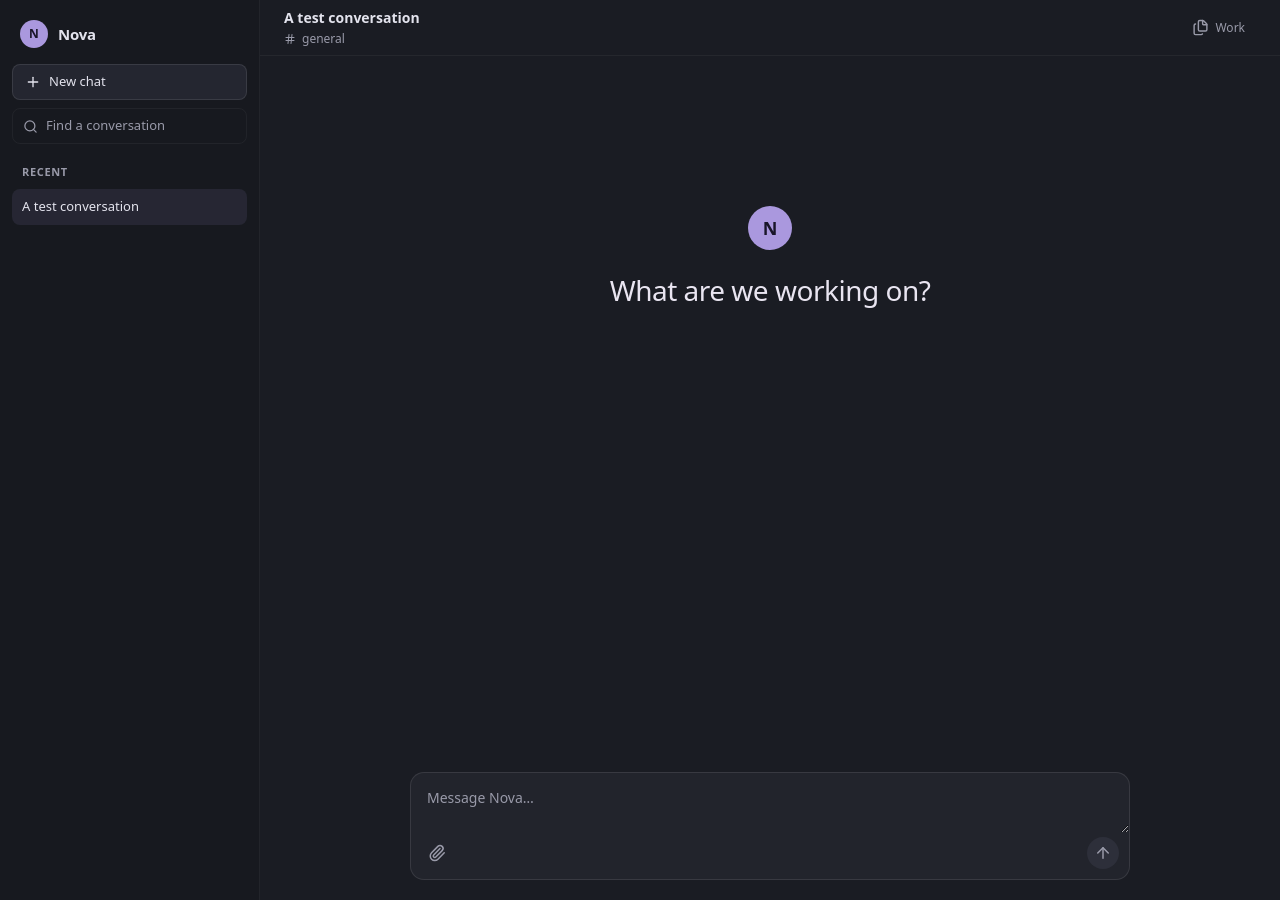
names the configured bot when a coding task asks for input
The width and height of the screenshot is (1280, 900).
Check: the text box labelled "Message Nova" is shown, box [411,773,1129,833]
Step 1. Click the button "Work" → point(1219, 28), box [1182,12,1256,44]
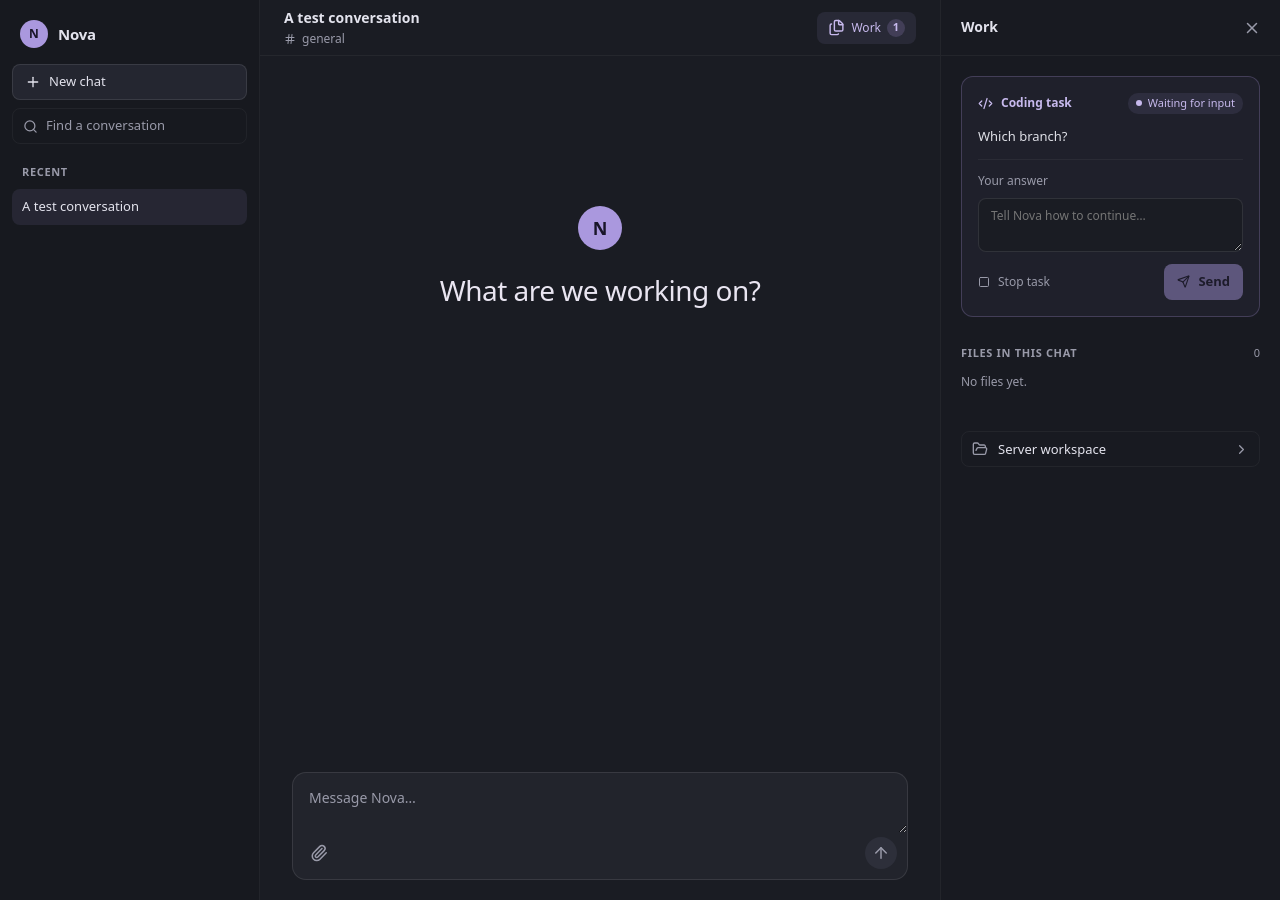
Check: the text box with placeholder "Tell Nova how to continue…" is shown, box [978,198,1243,252]
